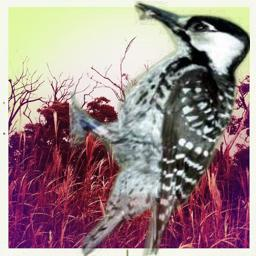Woodpecker: (69, 0, 250, 256)
